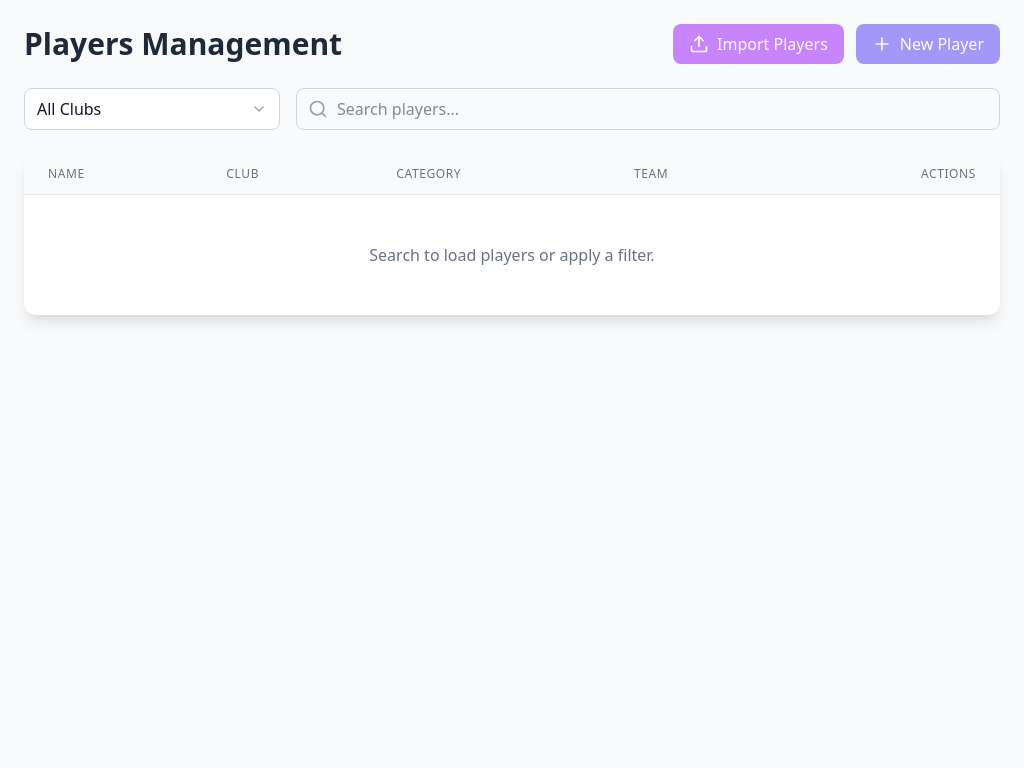
Scenario: PlayersManagement UI flows › deletes a player from the table and refreshes the list
The width and height of the screenshot is (1024, 768).
Expected: the heading "Players Management" is shown, 24,26 -> 342,62
Type "test-player" into the field with placeholder "Search players...".
click(648, 109); type("test-player")  # box 296,88 -> 1000,130
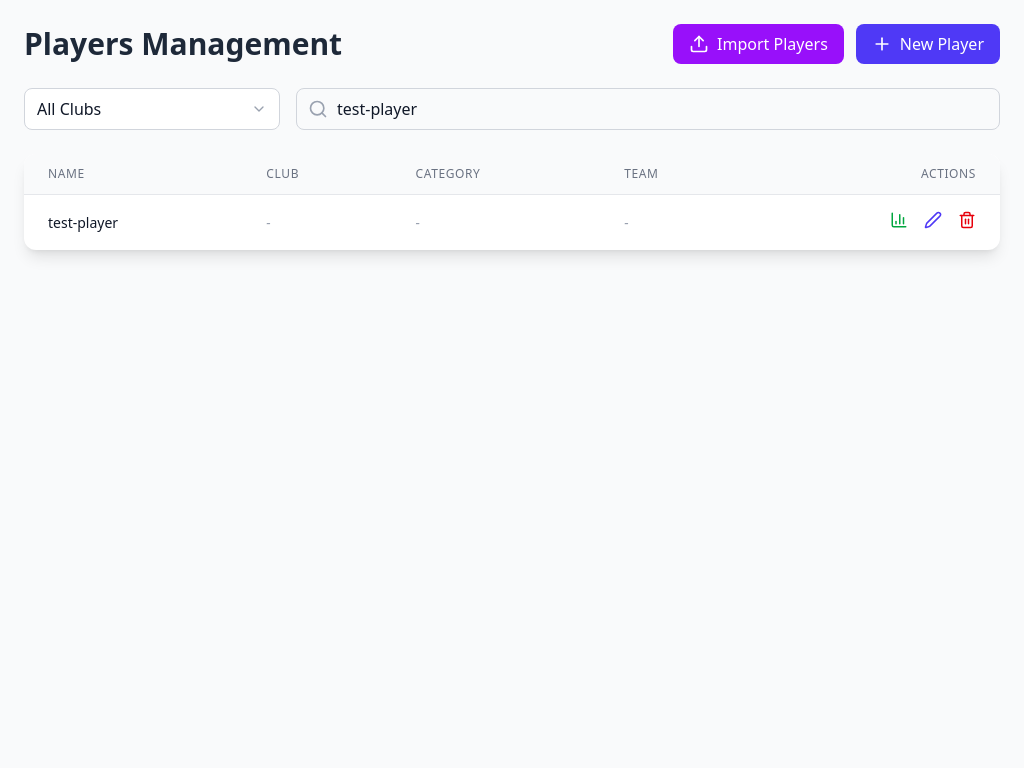
Result: the text "test-player" is shown at 48,212 -> 118,232
Click the button named "Delete Player".
click(967, 220)  # box 958,211 -> 976,229
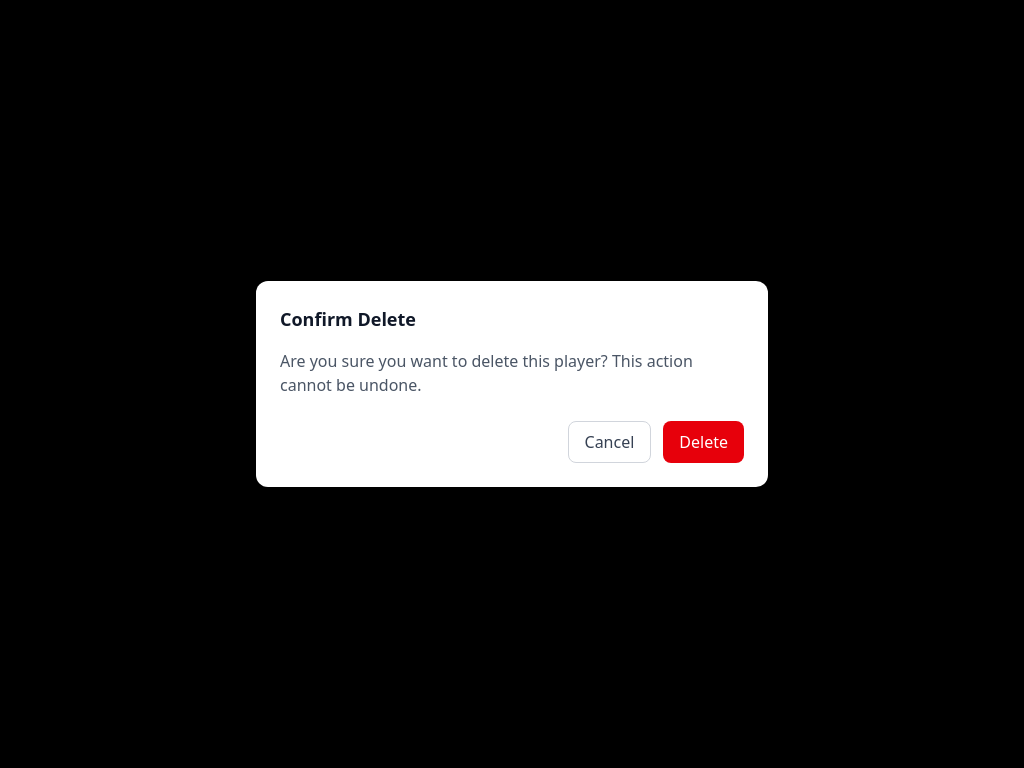
Click the button "Delete".
click(704, 442)  # box 663,421 -> 744,463
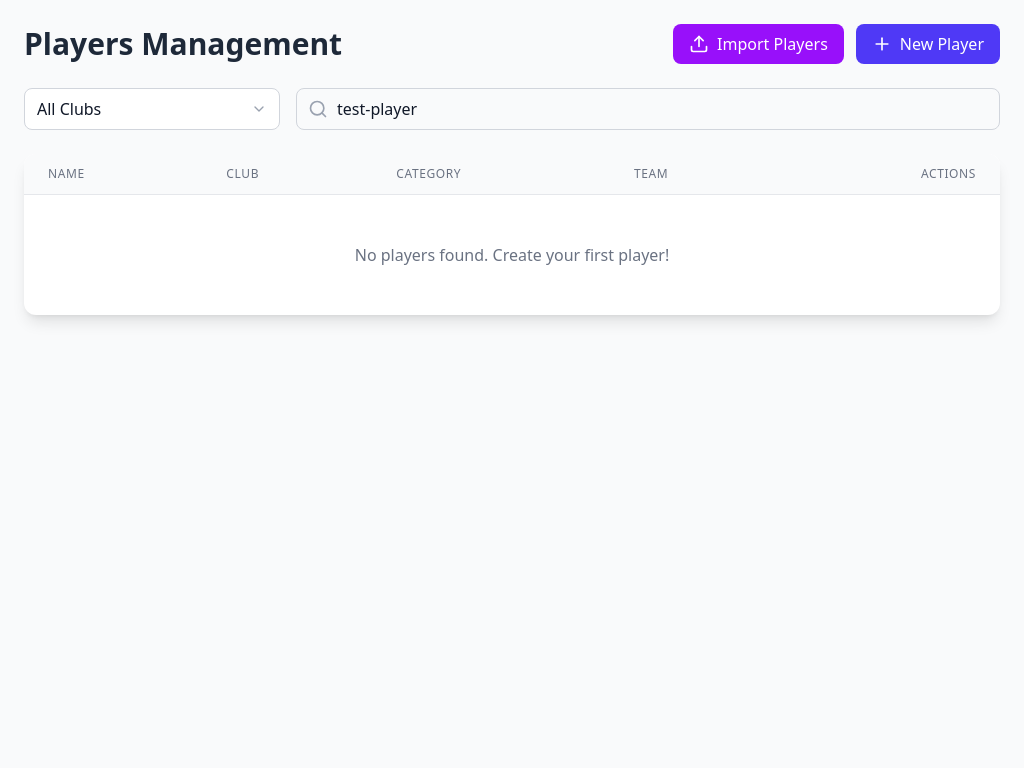
Result: the text "No players found. Create your first player!" is shown at 355,244 -> 669,266
